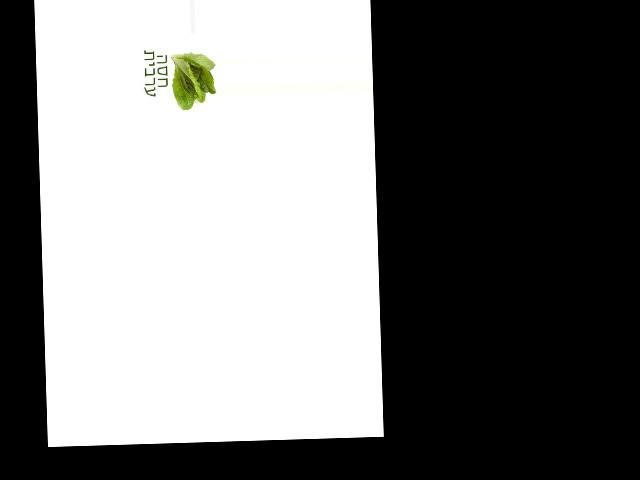lettuce: (165, 48, 216, 111)
